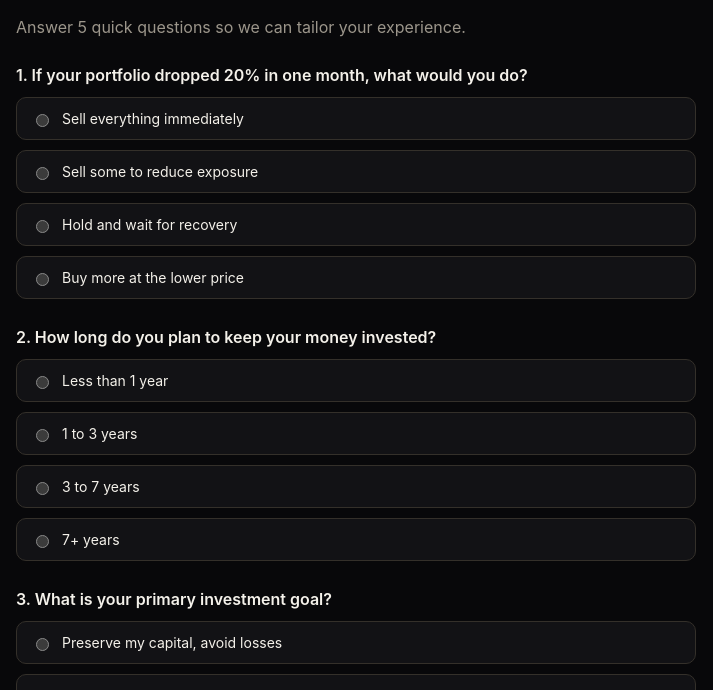
Test: RiskQuestionnaire › flags anchoring for a long horizon paired with a low-growth goal
Click the radio button labelled "Hold and wait for recovery" at [42, 226], box [36,220,49,232]
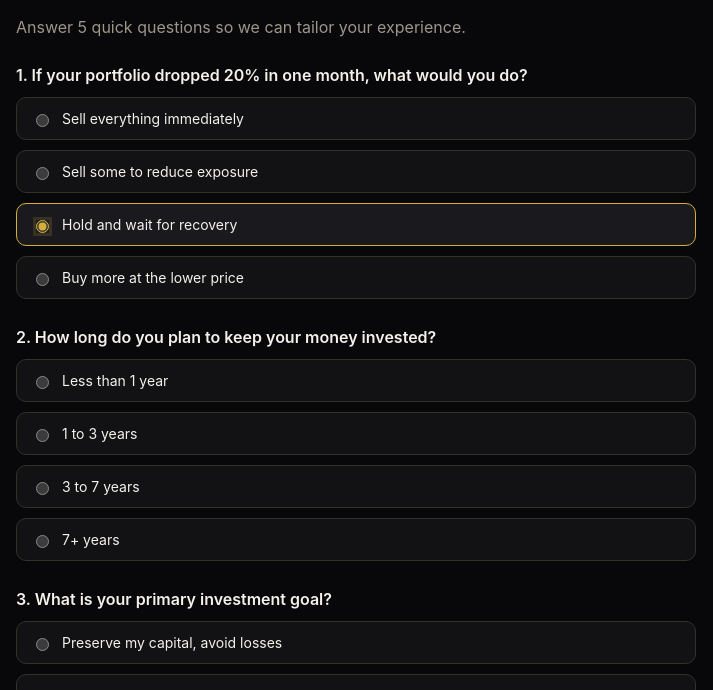
Click the radio button labelled "7+ years" at [42, 541], box [36,534,49,548]
(page scrolled)
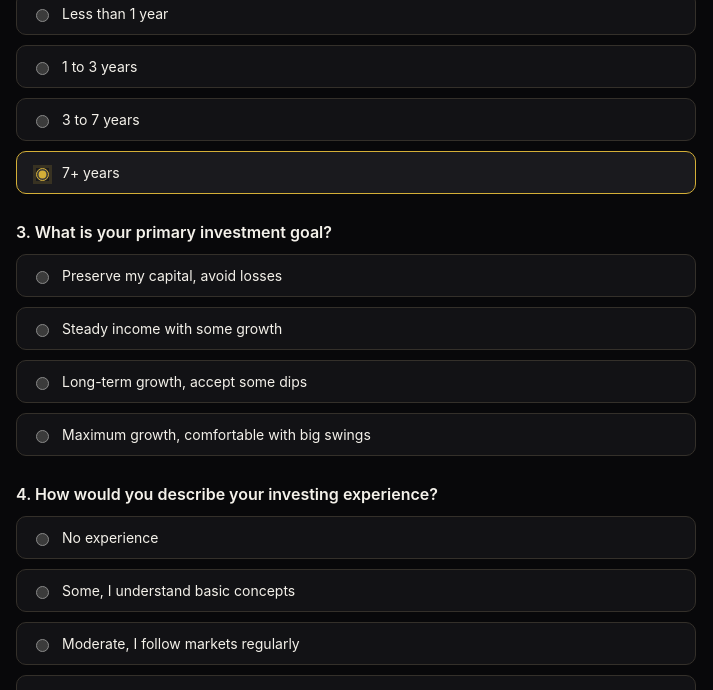
Click the radio button labelled "Steady income with some growth" at [42, 330], box [36,324,49,336]
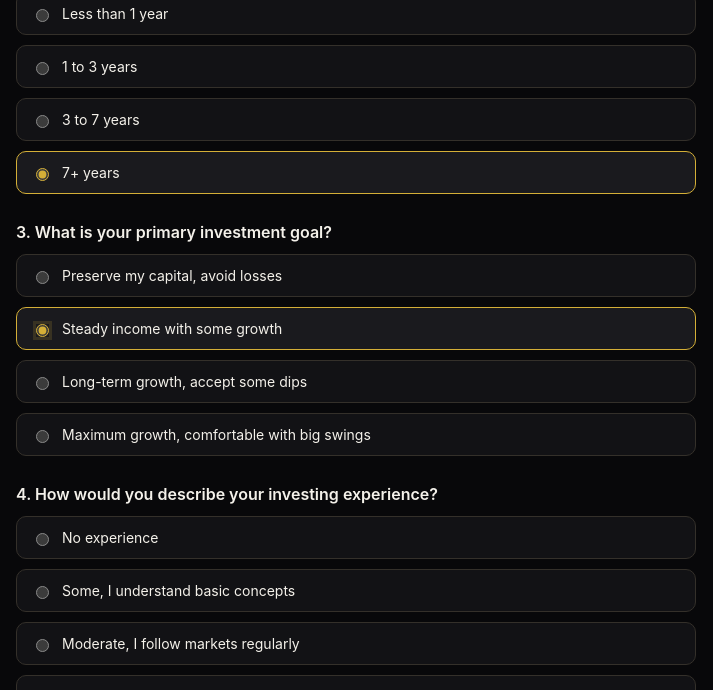
Click the radio button labelled "Moderate, I follow markets regularly" at [42, 645], box [36,638,49,652]
(page scrolled)
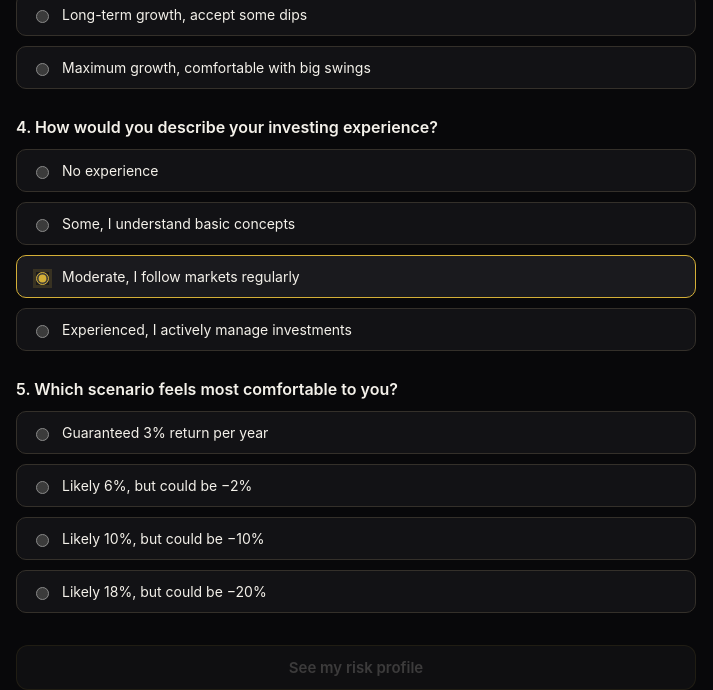
Click the radio button labelled "Likely 6%, but could be −2%" at [42, 487], box [36,480,49,494]
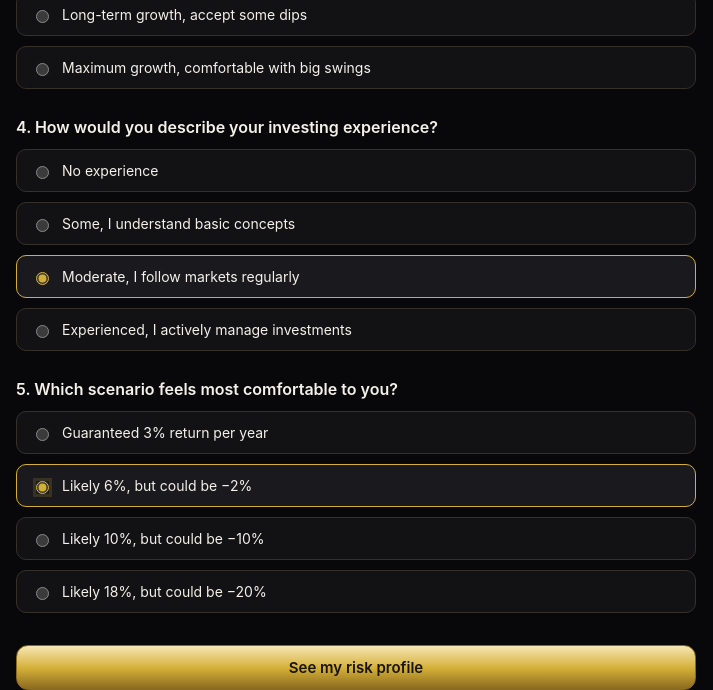
Click the button "See my risk profile" at [356, 668], box [16,645,696,689]
(page scrolled)
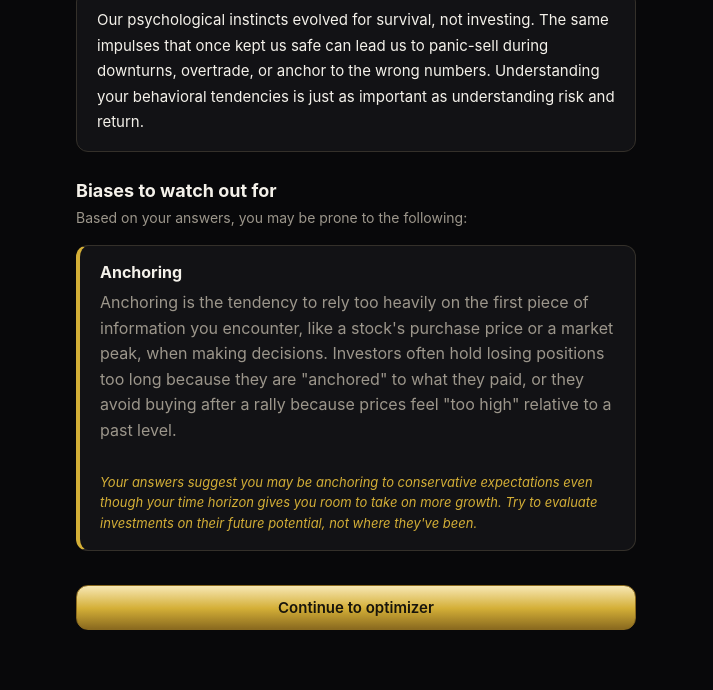
Now the text "Anchoring" is shown, box [100,262,182,282]
